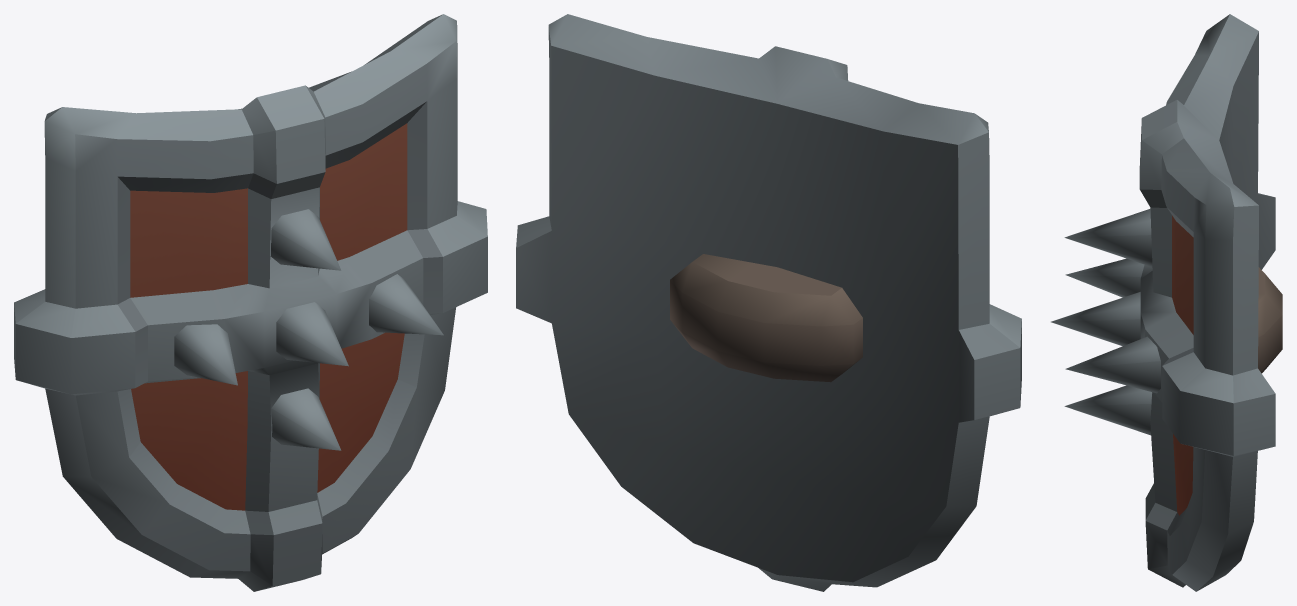
Rendered from gear-shield-spikes.glb.
3 renders of one model, left to right at view 1: azimuth 30°, elevation 25°; view 2: azimuth 150°, elevation 25°; view 3: azimuth 270°, elevation 25°, orthographic. The views are drawn at different scales.
Parts seen in each view (by area): view 1: shield_spikes; view 2: shield_spikes; view 3: shield_spikes.
Part boxes in pixels (box(x1,y1,x2,y2)): shield_spikes: box(14, 14, 487, 591); shield_spikes: box(516, 14, 1021, 591); shield_spikes: box(1051, 14, 1282, 591).
Size of the model in its own units: 1.01 by 1.04 by 0.4598.
